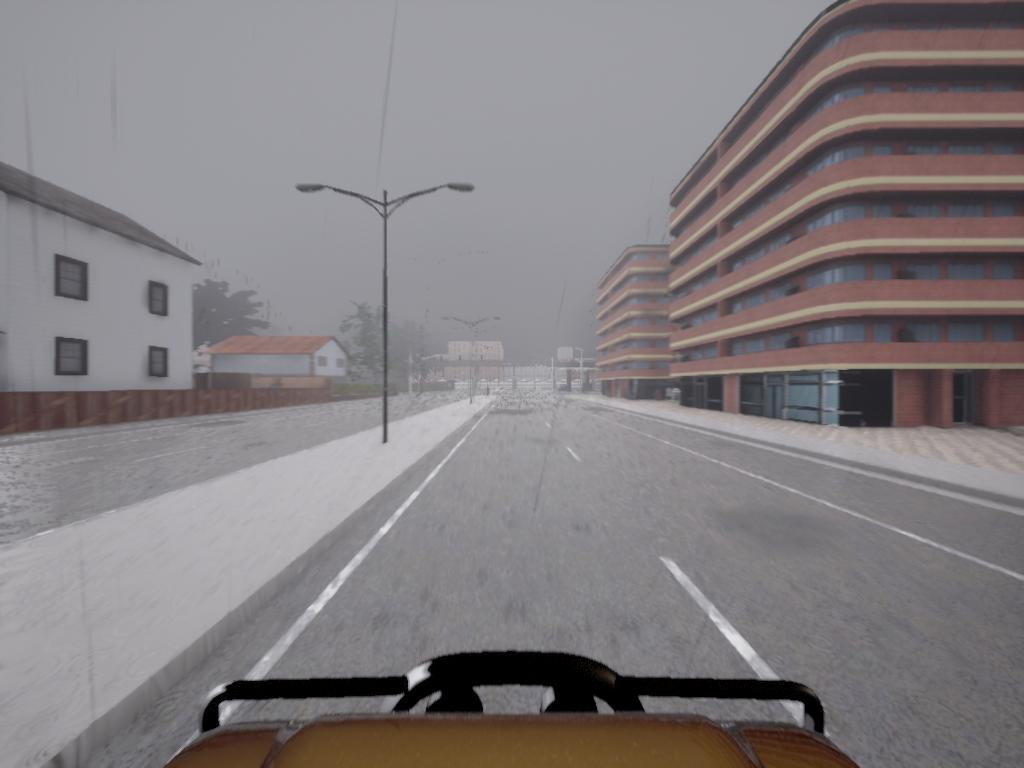traffic_light: (441, 357, 444, 363), (481, 355, 484, 361), (460, 357, 462, 363)
